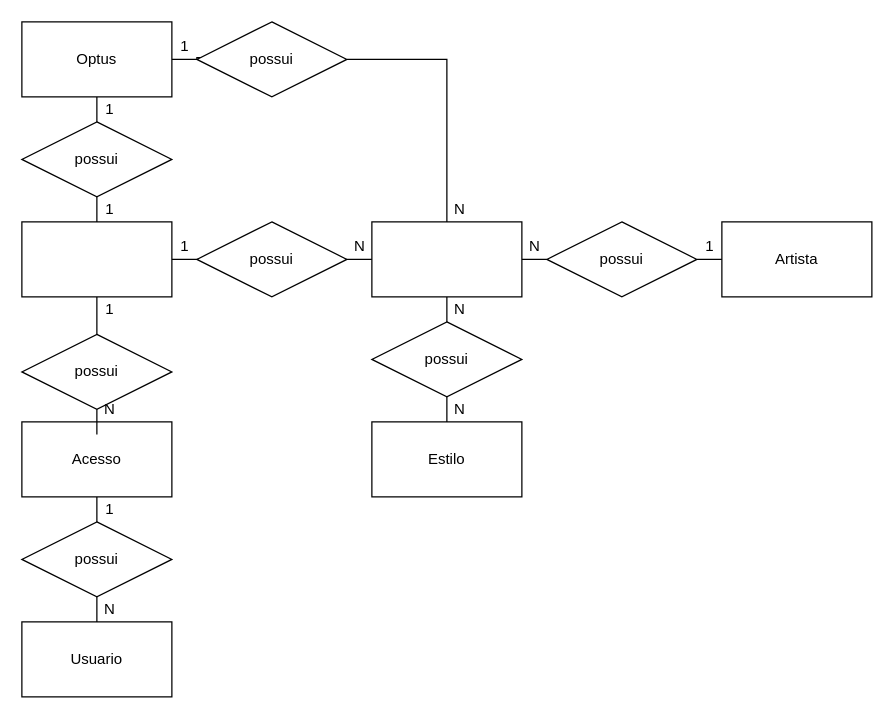
Some shapes in this 894 by 719 pixel diagram are drawn without their labels. The centre of each missing label's shape, as x and y in pixels:
Album: the point at 446,259
Plataforma: the point at 96,259
